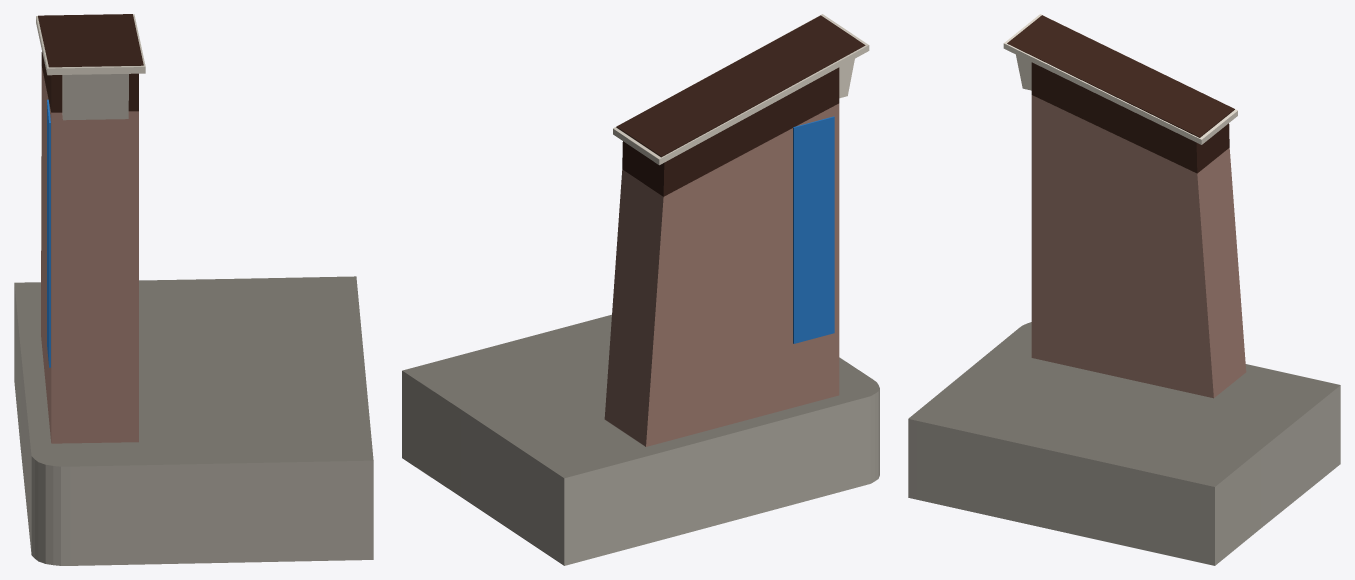
The model's file is circa.glb.
3 views of the same model, side by side, from view 1: azimuth 30°, elevation 25°; view 2: azimuth 150°, elevation 25°; view 3: azimuth 270°, elevation 25° (orthographic). The views are drawn at different scales.
Parts seen in each view (by area): view 1: Tower; view 2: Tower; view 3: Tower.
Boxes of the visible parts, bbox=[...] form: Tower: bbox=[14, 14, 373, 565]; Tower: bbox=[402, 14, 879, 565]; Tower: bbox=[908, 14, 1340, 565].
Size of the model in its own units: 136 by 148 by 149.
